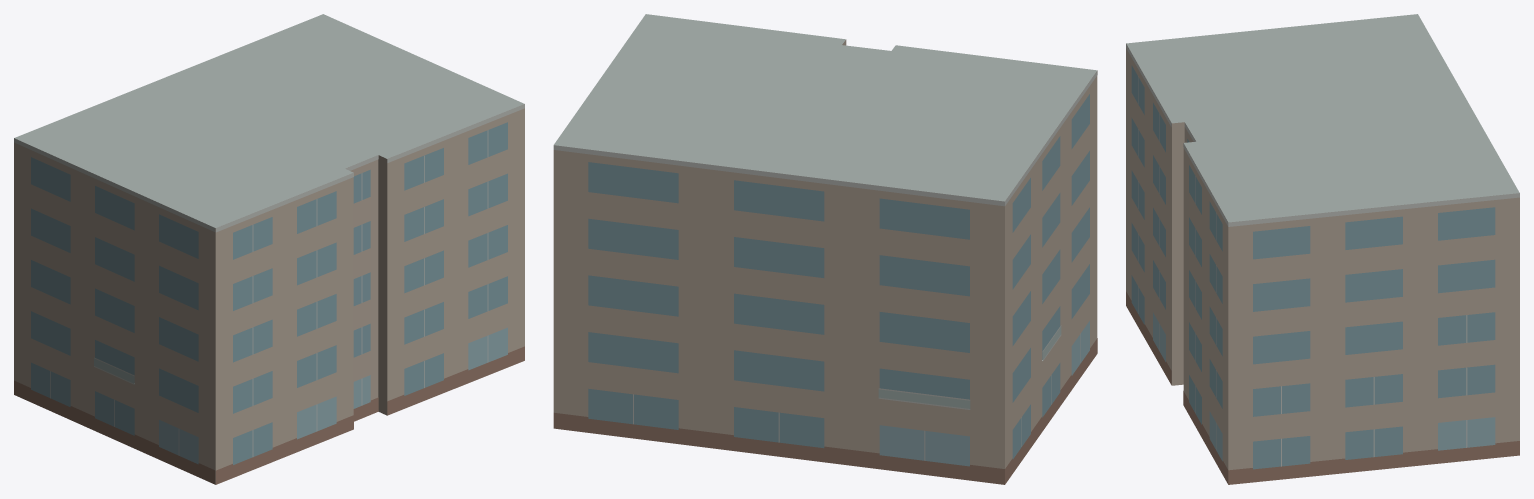
File: survey-upis-32571422.glb
3 renders of one model, left to right at view 1: azimuth 30°, elevation 25°; view 2: azimuth 150°, elevation 25°; view 3: azimuth 270°, elevation 25°, orthographic. The views are drawn at different scales.
Visible parts, largest first — view 1: survey-upis-32571422.tmp; view 2: survey-upis-32571422.tmp; view 3: survey-upis-32571422.tmp.
Part boxes in pixels (<box>): survey-upis-32571422.tmp: <box>14,14,524,484</box>; survey-upis-32571422.tmp: <box>553,14,1097,484</box>; survey-upis-32571422.tmp: <box>1126,14,1519,484</box>.
Size of the model in its own units: 24.55 by 14.4 by 19.6.
